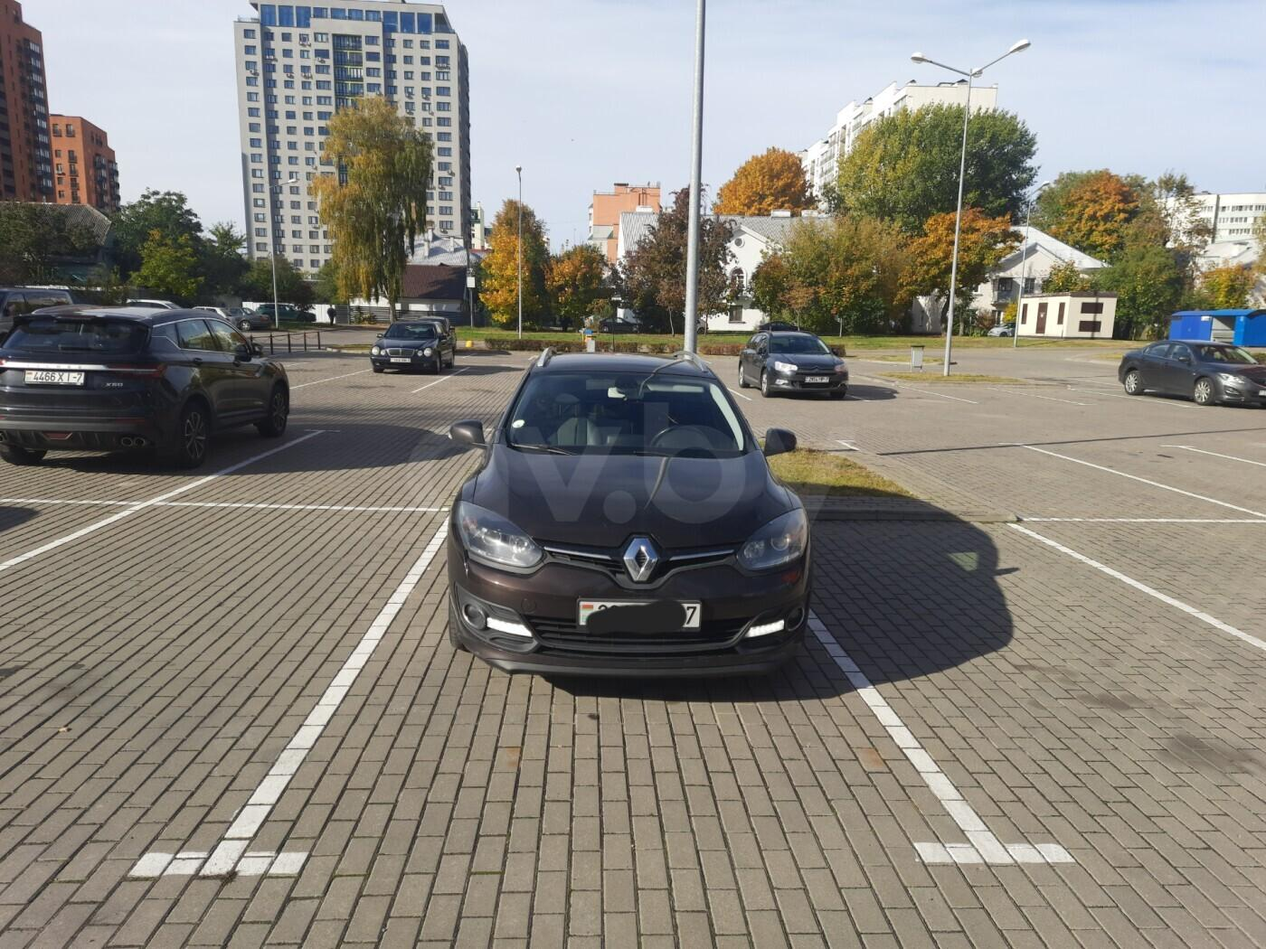Megane_2014-2016: (446, 350, 824, 682)
